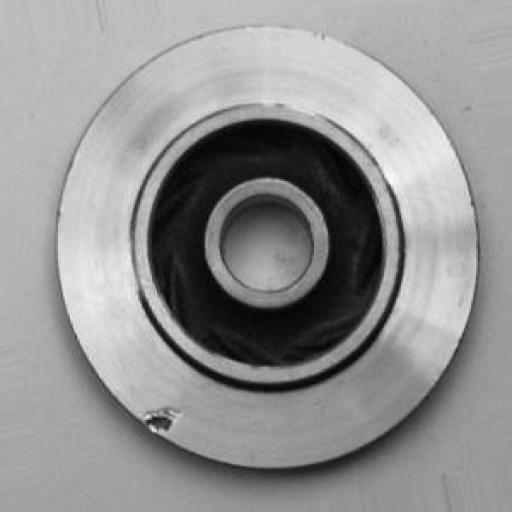defect: (104, 356, 212, 478)
